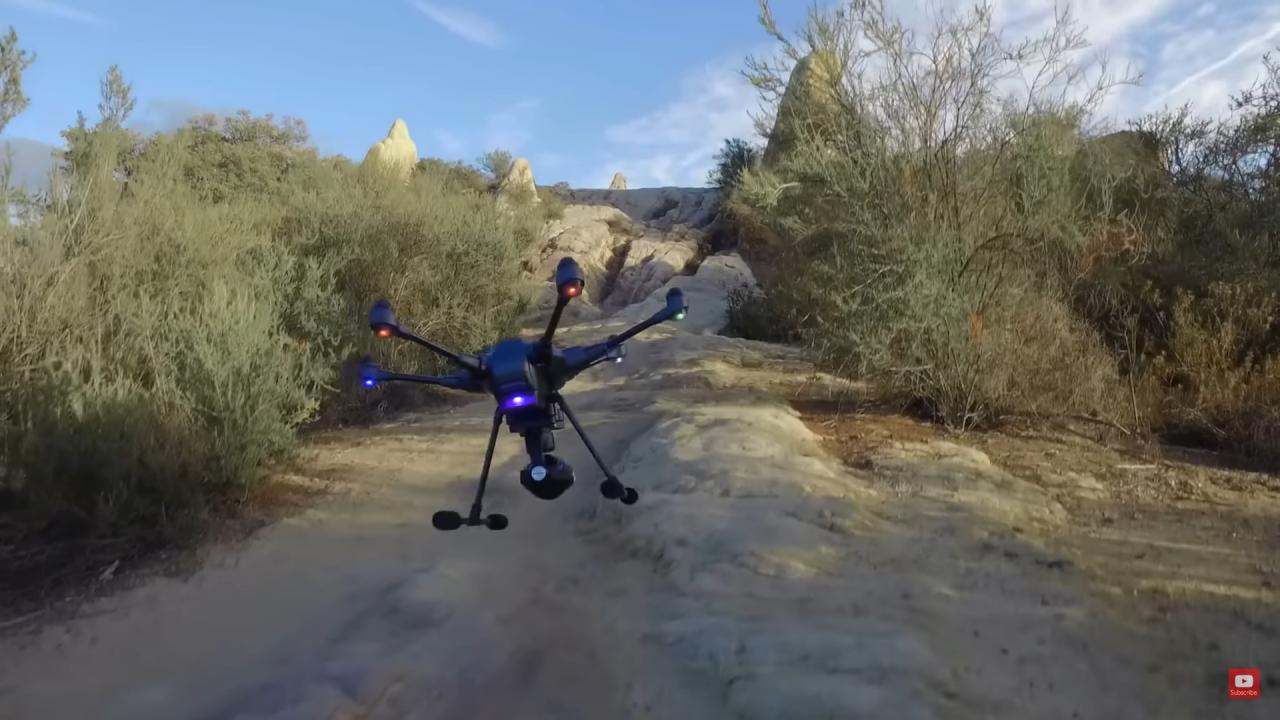Drone: (325, 237, 715, 549)
